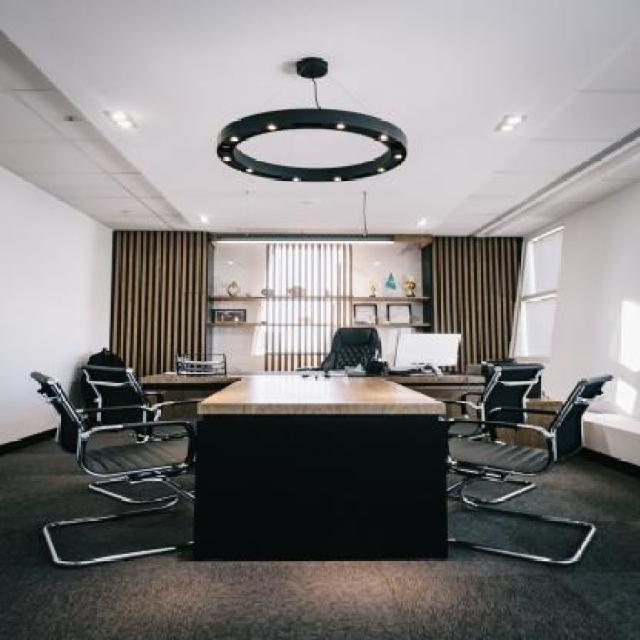floor: (0, 432, 640, 636), (452, 510, 585, 550)
